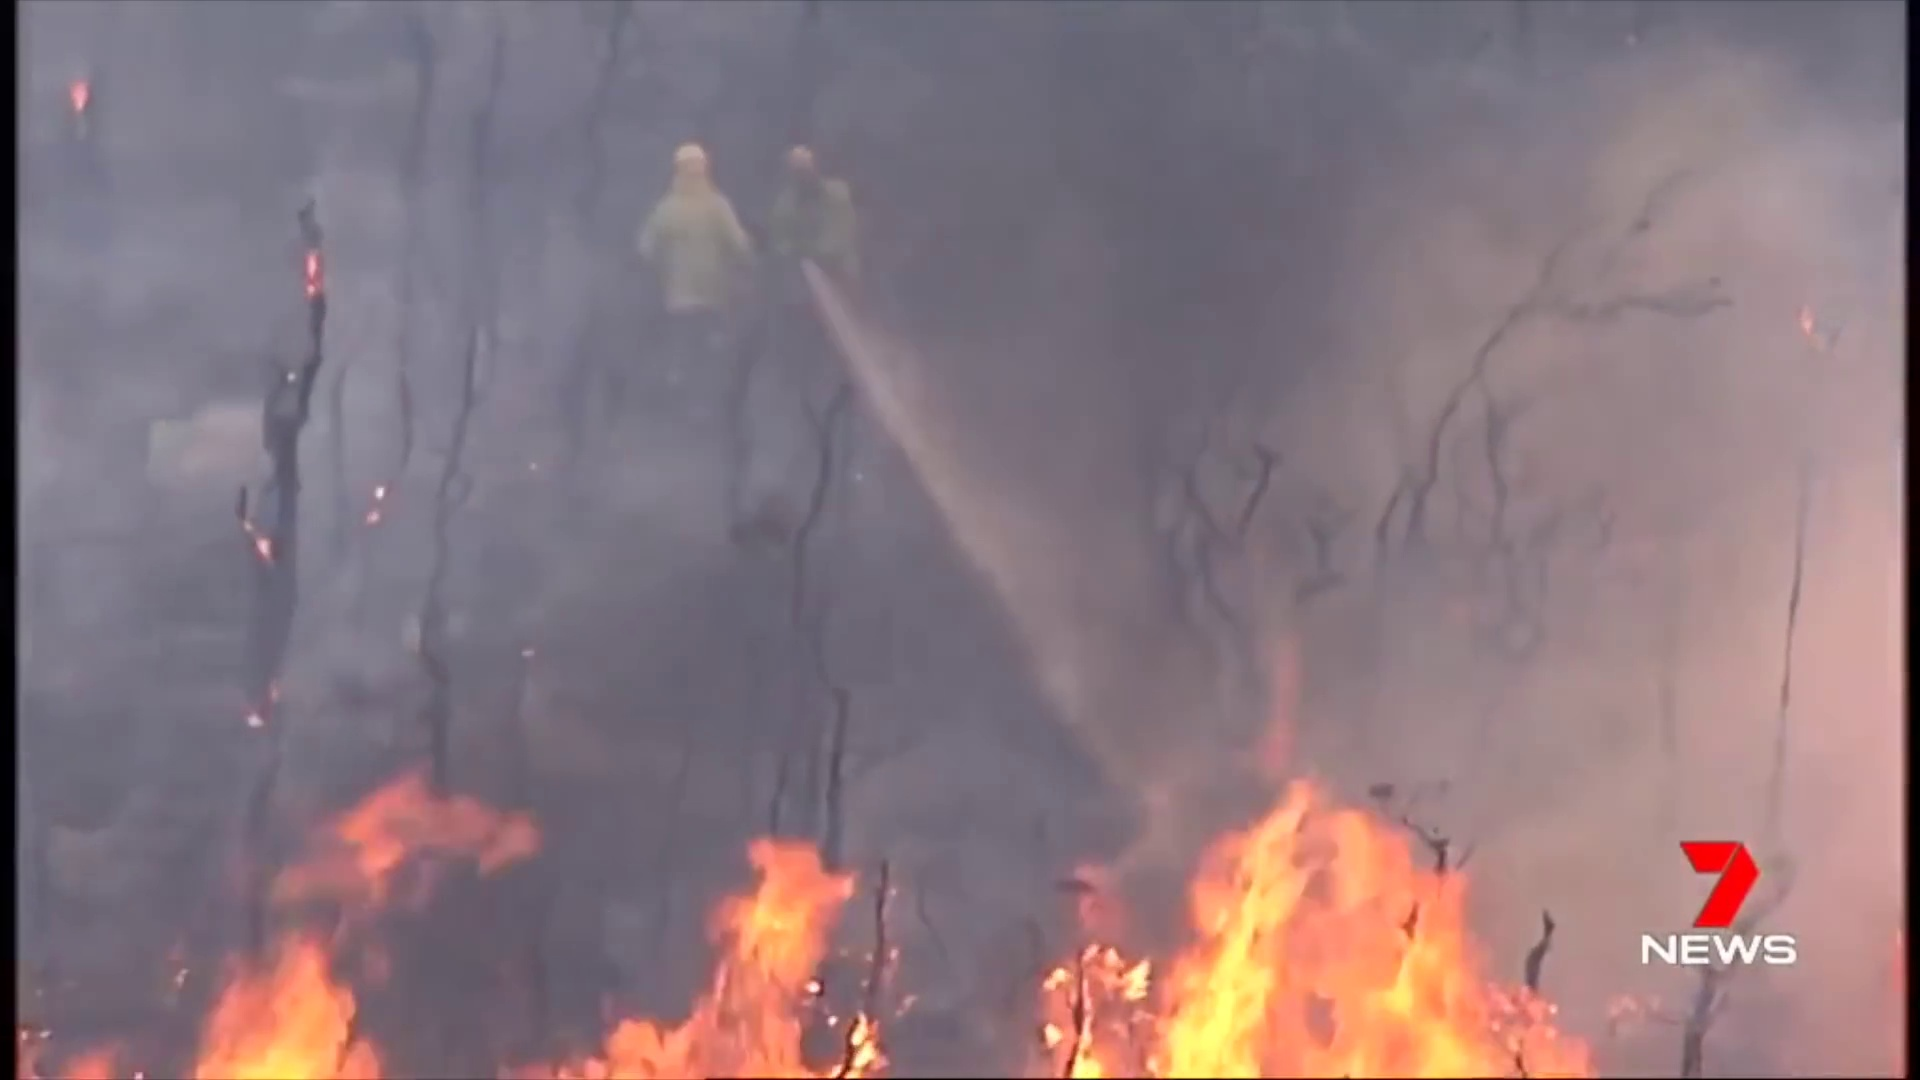fire: (1036, 790, 1585, 1080), (604, 843, 876, 1080), (198, 932, 378, 1080), (345, 778, 520, 878)
